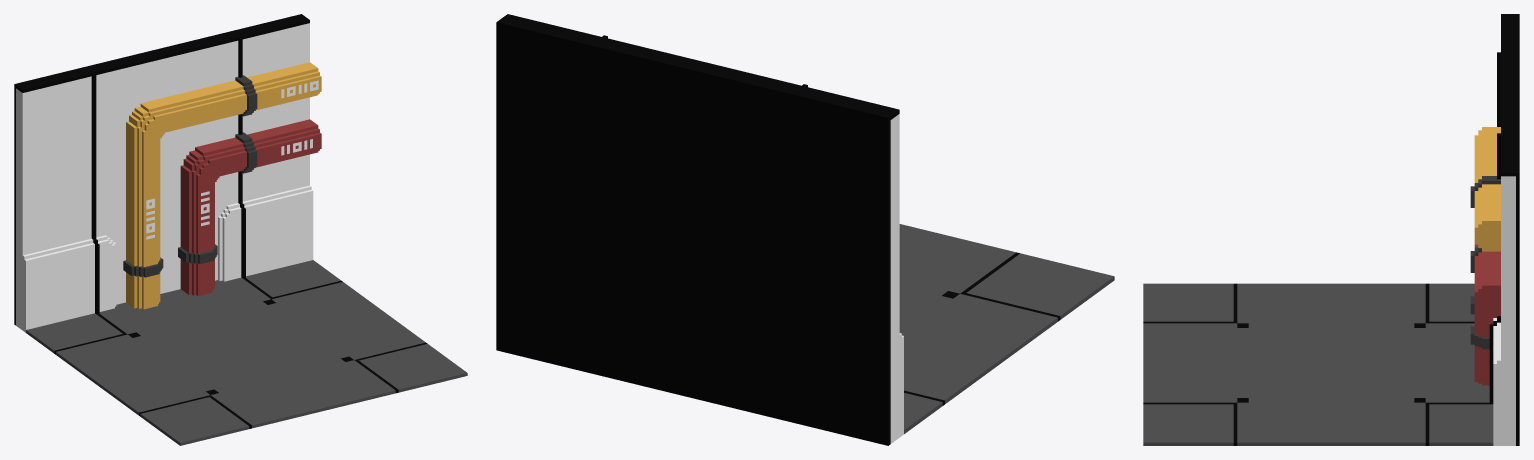
The model's file is Wall Pipes 1 - 2.obj.
3 views of the same model, side by side, from view 1: azimuth 30°, elevation 25°; view 2: azimuth 150°, elevation 25°; view 3: azimuth 270°, elevation 25° (orthographic). The views are drawn at different scales.
Size of the model in its own units: 10 by 8 by 10.
